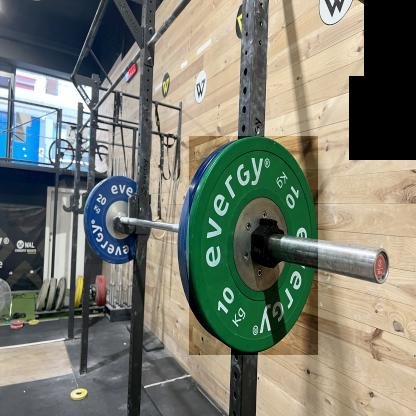barbell: (190, 137, 319, 356), (87, 177, 153, 265)
